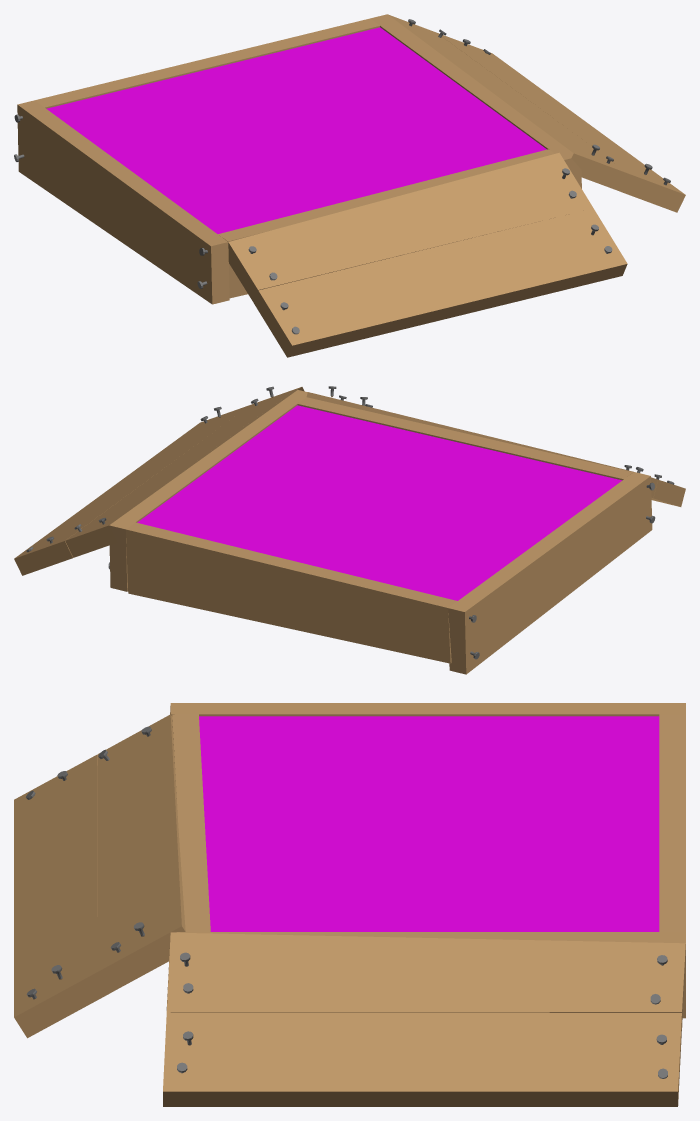
Rendered from Plank_Platform_ramps.fbx.
3 renders of one model, top to bottom at view 1: azimuth 30°, elevation 25°; view 2: azimuth 150°, elevation 25°; view 3: azimuth 270°, elevation 25°, orthographic. The views are drawn at different scales.
Visible parts, largest first — view 1: Plank_Platform_ramps; view 2: Plank_Platform_ramps; view 3: Plank_Platform_ramps.
Boxes of the visible parts, <box> form: Plank_Platform_ramps: <box>14,14,685,357</box>; Plank_Platform_ramps: <box>14,386,685,674</box>; Plank_Platform_ramps: <box>14,703,685,1106</box>.
Size of the model in its own units: 801 by 131 by 729.
